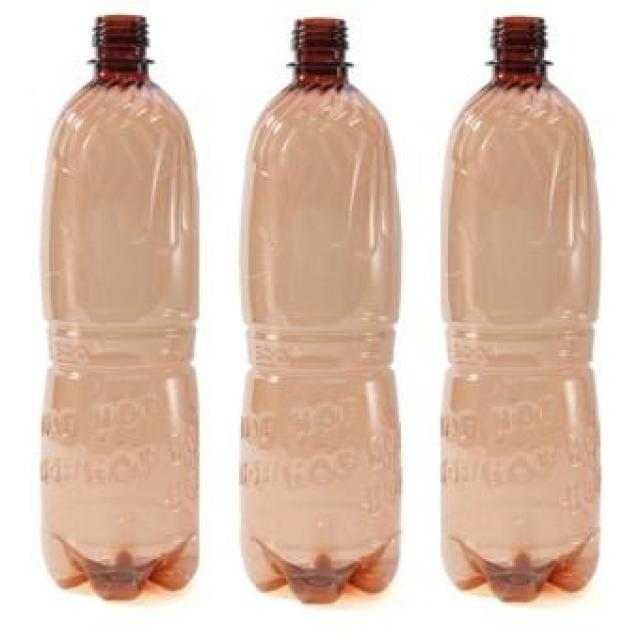bottle: (237, 17, 403, 606), (36, 18, 202, 598), (430, 20, 594, 601)
